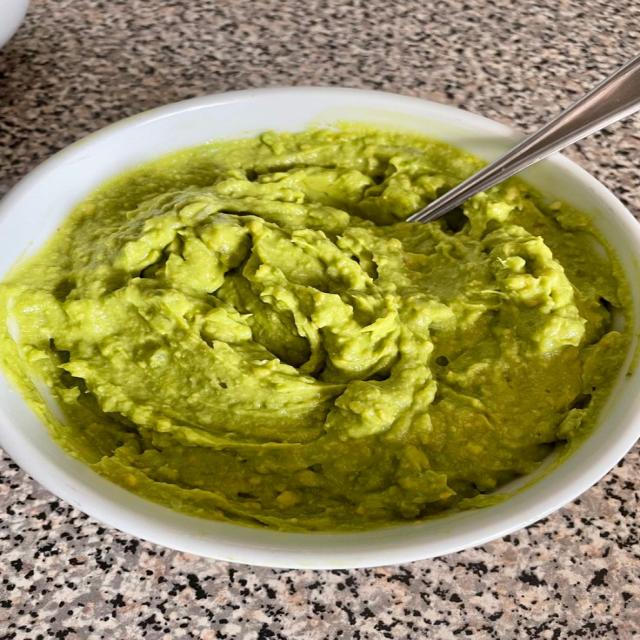avocado: (0, 127, 626, 530)
